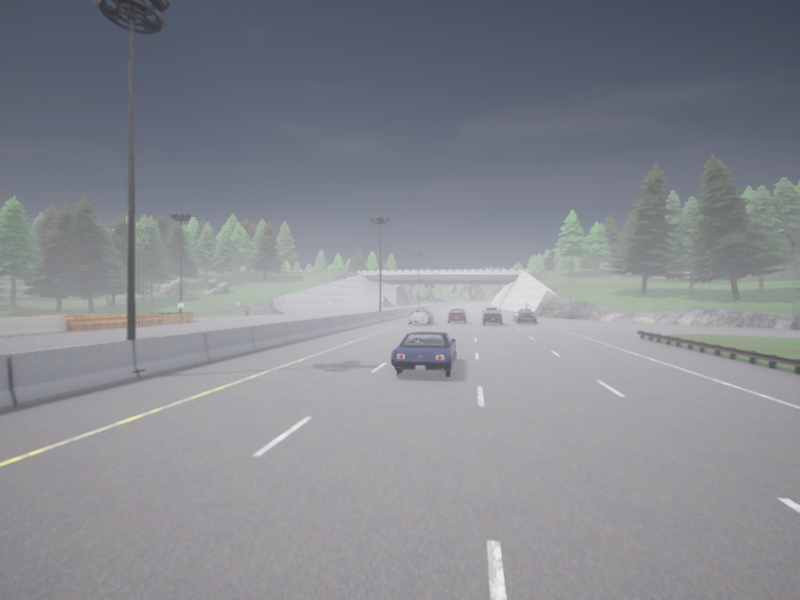vehicle: (391, 331, 455, 375), (409, 308, 433, 324), (513, 308, 536, 323), (481, 308, 502, 324), (448, 309, 466, 322)
